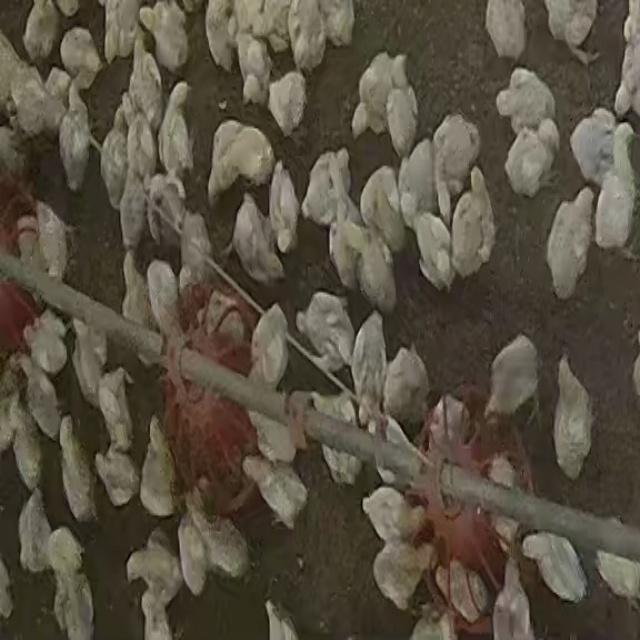chicken: (544, 189, 596, 303), (206, 119, 276, 203), (450, 158, 497, 279), (312, 390, 368, 490), (552, 353, 594, 484), (482, 331, 538, 428), (295, 291, 357, 378), (242, 452, 309, 532), (430, 114, 483, 214), (46, 527, 94, 635), (230, 192, 284, 286), (298, 148, 356, 235), (349, 309, 388, 432), (518, 531, 584, 602), (194, 504, 252, 584), (370, 538, 431, 613), (494, 67, 558, 138), (502, 121, 558, 200), (358, 163, 406, 253), (353, 216, 398, 312), (58, 415, 98, 523), (568, 108, 620, 189), (58, 76, 94, 192), (354, 49, 403, 134), (157, 80, 196, 185), (138, 415, 178, 517), (592, 164, 635, 258), (381, 344, 429, 425), (435, 554, 490, 624), (360, 484, 420, 548), (542, 1, 602, 65), (229, 0, 293, 60), (246, 396, 301, 465), (124, 100, 156, 218), (250, 302, 292, 391), (144, 258, 184, 351), (490, 554, 534, 638), (10, 397, 46, 498), (410, 211, 454, 293), (100, 102, 132, 214), (24, 353, 62, 445), (72, 318, 110, 410), (127, 34, 163, 131), (8, 69, 66, 129), (484, 452, 521, 545), (176, 200, 216, 286), (144, 1, 190, 75), (146, 171, 188, 252), (398, 139, 434, 233), (286, 0, 331, 74), (127, 538, 180, 600), (95, 369, 134, 453), (268, 162, 302, 258), (35, 198, 71, 286), (26, 312, 70, 383), (175, 509, 210, 598), (18, 491, 54, 575), (92, 446, 138, 510), (58, 25, 103, 90), (120, 253, 154, 339), (266, 70, 308, 138), (592, 547, 639, 606), (484, 1, 528, 64), (236, 37, 274, 108), (328, 212, 361, 293), (427, 394, 467, 460), (194, 289, 241, 344), (384, 81, 418, 157), (103, 1, 143, 65), (22, 1, 61, 63), (204, 3, 237, 73), (322, 0, 356, 47)
